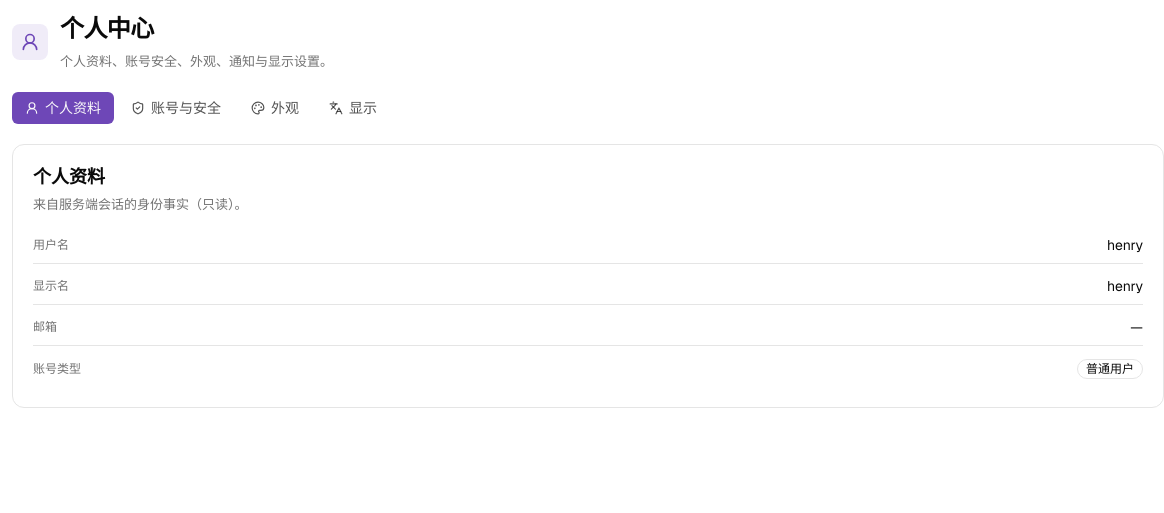
Test case: profile page › renders all four constrained sections
Expected: the tab with test id "profile-tab-identity" is shown, 12,92 -> 114,124
Expected: the tab with test id "profile-tab-appearance" is shown, 238,92 -> 312,124
Click the tab with test id "profile-tab-security" at [176, 108], box 118,92 -> 234,124
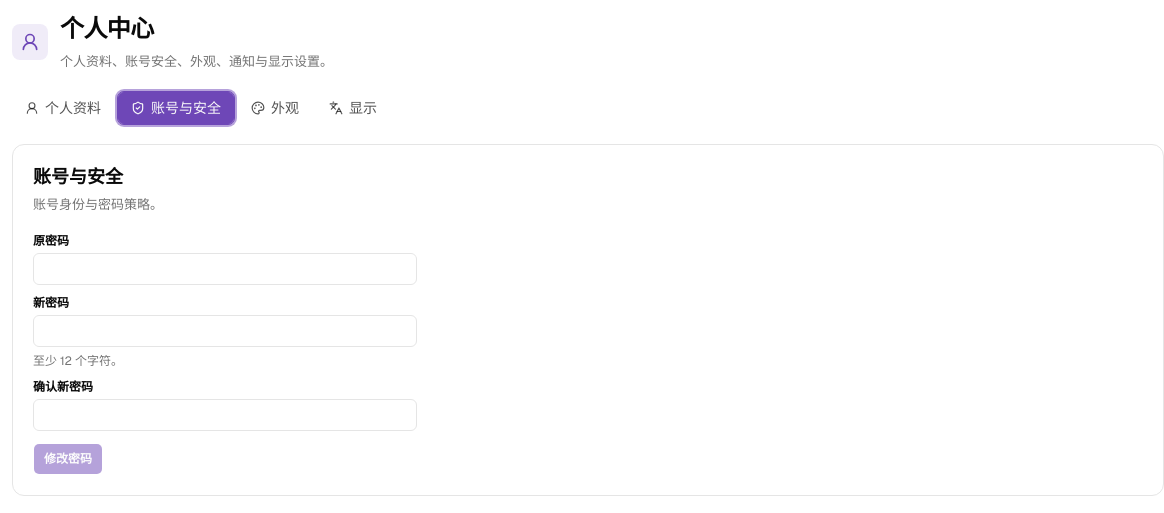
Result: the password field with test id "profile-old-password" is shown at 33,253 -> 417,285
Result: the password field with test id "profile-new-password" is shown at 33,315 -> 417,347
Result: the password field with test id "profile-confirm-password" is shown at 33,399 -> 417,431
